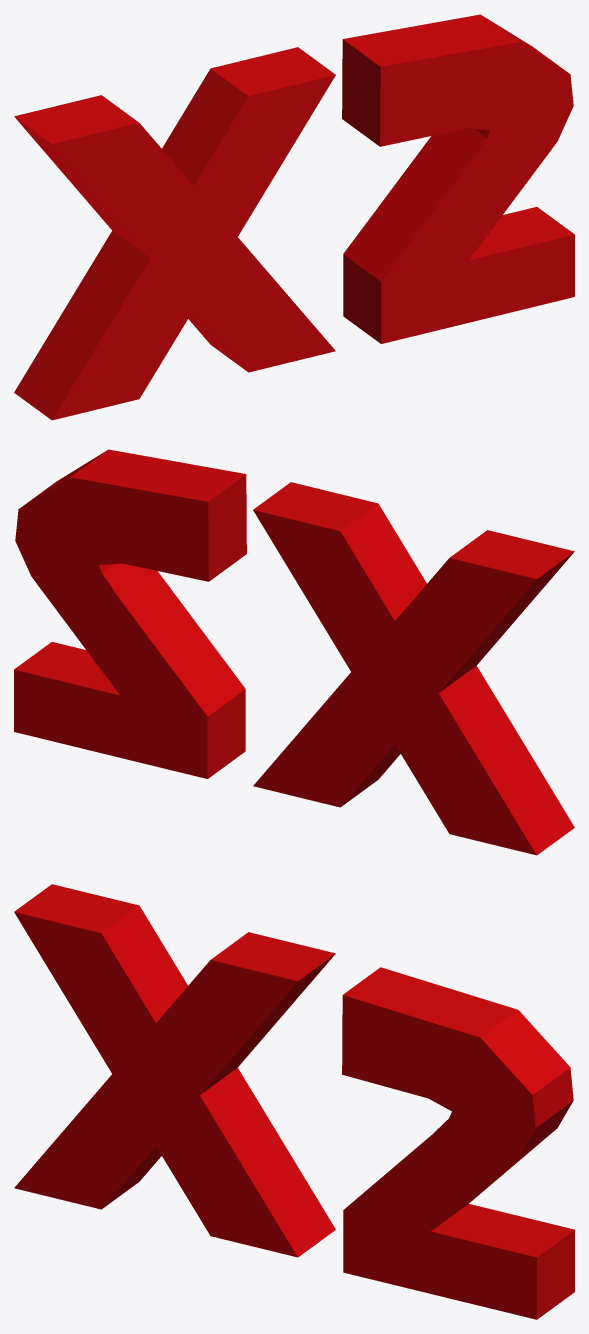
File: x2damage.fbx
The picture shows the model from 3 angles, top to bottom: view 1: azimuth 30°, elevation 25°; view 2: azimuth 150°, elevation 25°; view 3: azimuth 330°, elevation 25°; orthographic projection.
Visible parts, largest first — view 1: Plane; view 2: Plane; view 3: Plane.
Boxes of the visible parts, x1=… form: Plane: x1=14, y1=14, x2=574, y2=420; Plane: x1=14, y1=449, x2=574, y2=855; Plane: x1=14, y1=884, x2=574, y2=1319.
Bounding box in the file's own units: 758 × 388 × 95.34.
